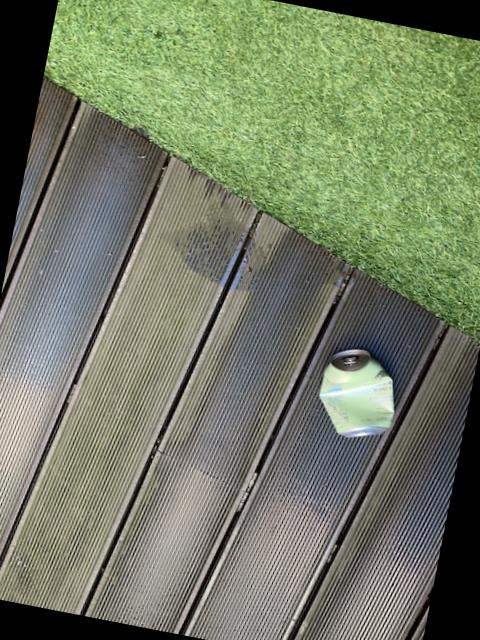metal: (319, 349, 393, 435)
